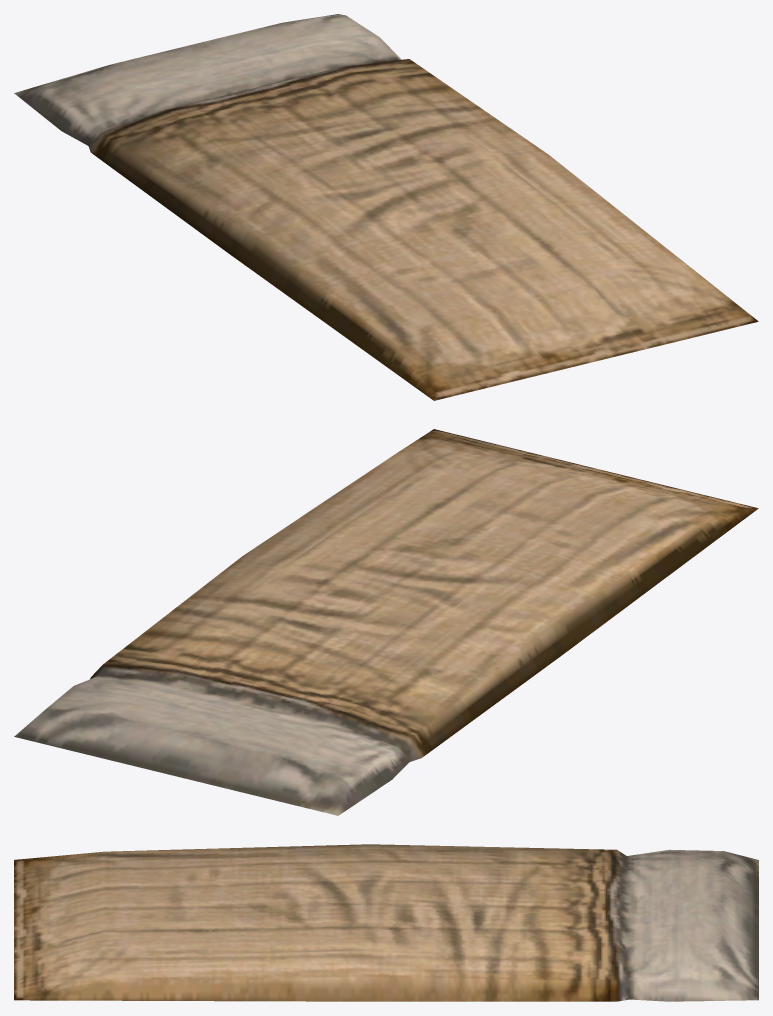
The model's file is M5B_BedRoll01.glb.
The picture shows the model from 3 angles, top to bottom: view 1: azimuth 30°, elevation 25°; view 2: azimuth 150°, elevation 25°; view 3: azimuth 270°, elevation 25°; orthographic projection. The views are drawn at different scales.
Parts seen in each view (by area): view 1: M5B_BEDROLL01; view 2: M5B_BEDROLL01; view 3: M5B_BEDROLL01.
Part boxes in pixels (x1,y1,x2,y2): M5B_BEDROLL01: (14,14,758,400); M5B_BEDROLL01: (14,429,758,815); M5B_BEDROLL01: (14,844,758,1001).
Size of the model in its own units: 1 by 0.087 by 2.2.
1 material, 1 textured.
